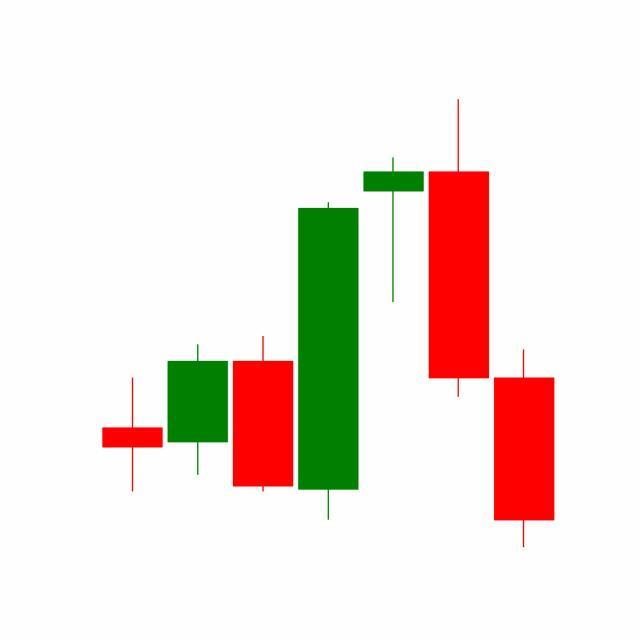Evening Star: (295, 99, 492, 524)
